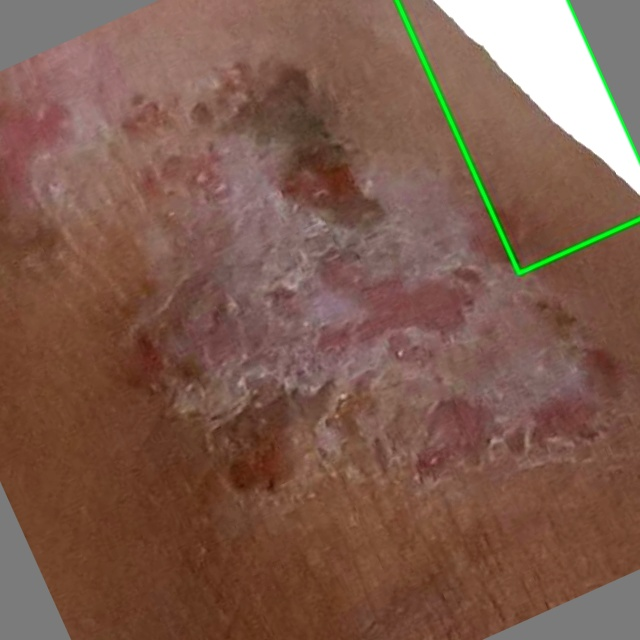Contact Dermatitis: (396, 0, 639, 273)
